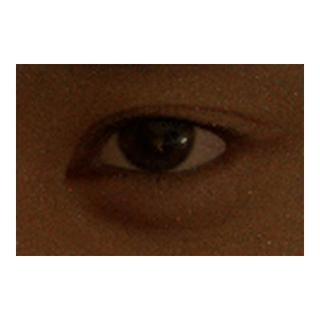pupil: (138, 115, 174, 152)
